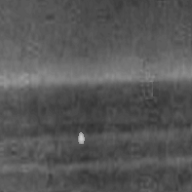Target: (76, 129, 86, 145)
